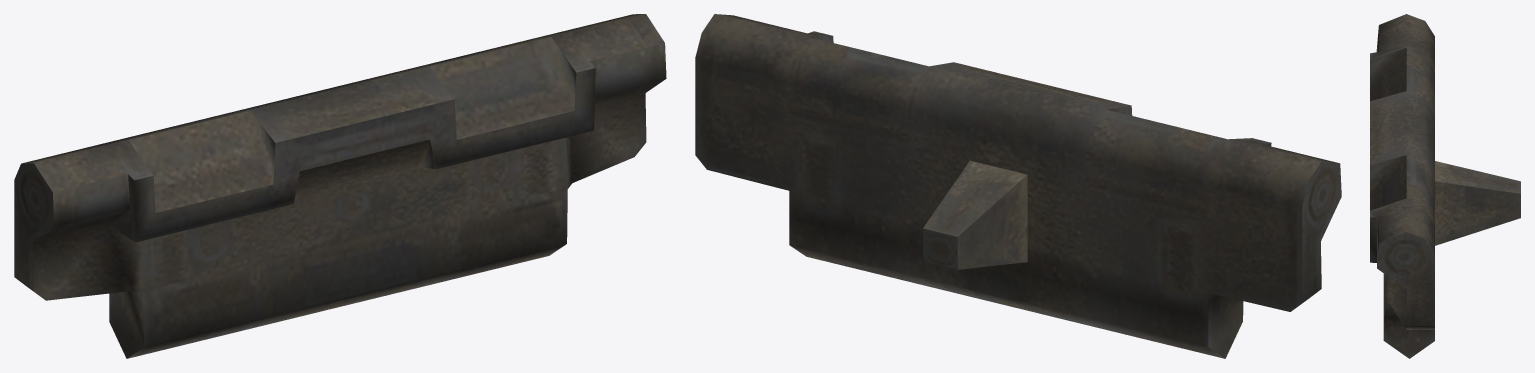
The picture shows the model from 3 angles, left to right: view 1: azimuth 30°, elevation 25°; view 2: azimuth 150°, elevation 25°; view 3: azimuth 270°, elevation 25°; orthographic projection. The views are drawn at different scales.
Parts seen in each view (by area): view 1: set_0_group_0; view 2: set_0_group_0; view 3: set_0_group_0.
Part boxes in pixels (bbox=[...]): set_0_group_0: bbox=[14, 14, 666, 358]; set_0_group_0: bbox=[695, 14, 1341, 358]; set_0_group_0: bbox=[1370, 14, 1520, 358].
Size of the model in its own units: 0.7026 by 0.2415 by 0.2055.
1 material, 1 textured.
